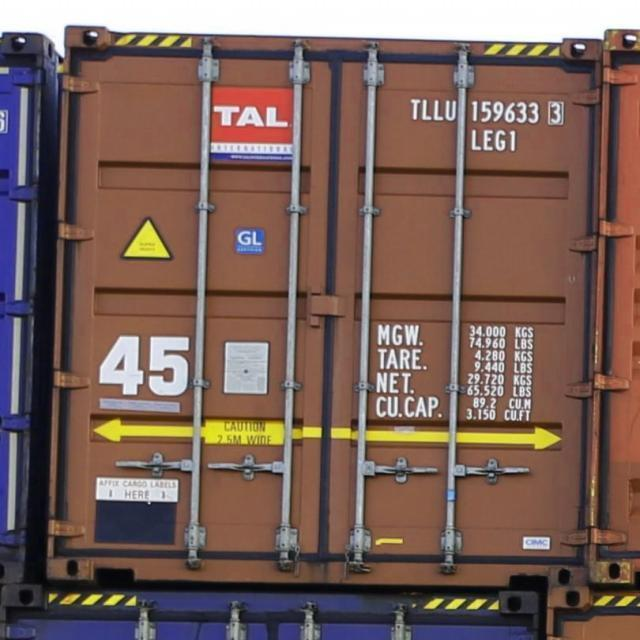ISO: (468, 128, 518, 153)
container_number: (409, 96, 572, 125)
